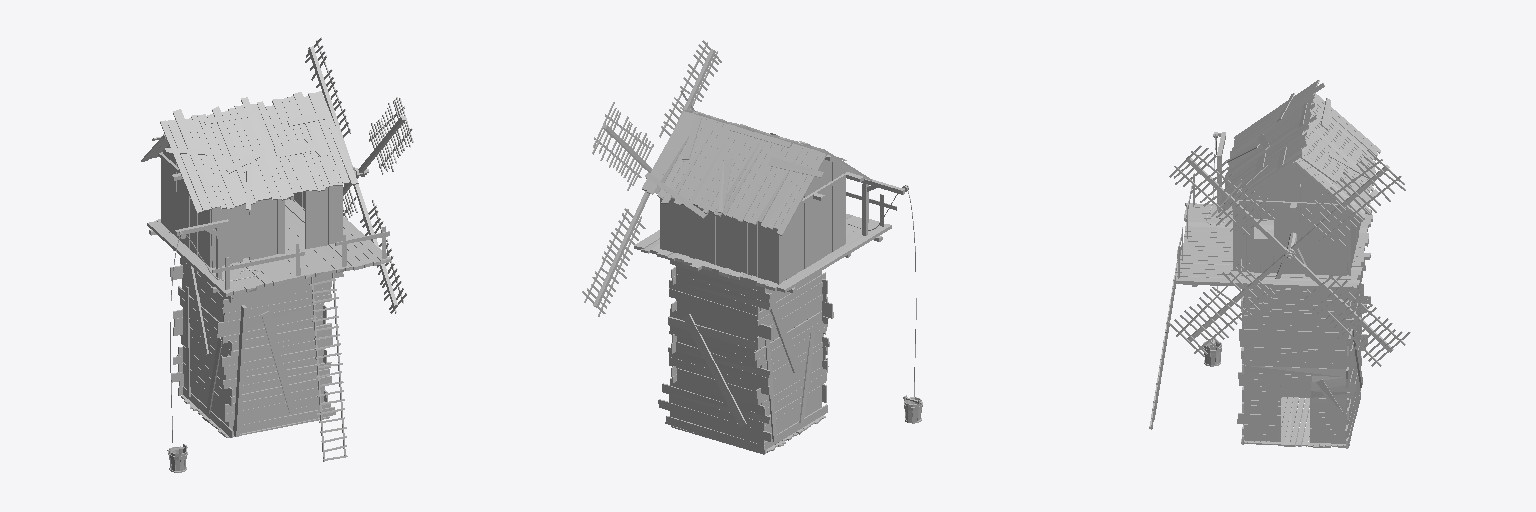
File: map5building.obj
3 views of the same model, side by side, from view 1: azimuth 30°, elevation 25°; view 2: azimuth 150°, elevation 25°; view 3: azimuth 270°, elevation 25° (orthographic).
Visible parts, largest first — view 1: floor; view 2: floor; view 3: floor.
Boxes of the visible parts, x1,y1,x2,y2 form: floor: [141, 37, 413, 472]; floor: [582, 40, 922, 454]; floor: [1149, 80, 1410, 448].
Bounding box in the file's own units: 12132 × 15446 × 11355.